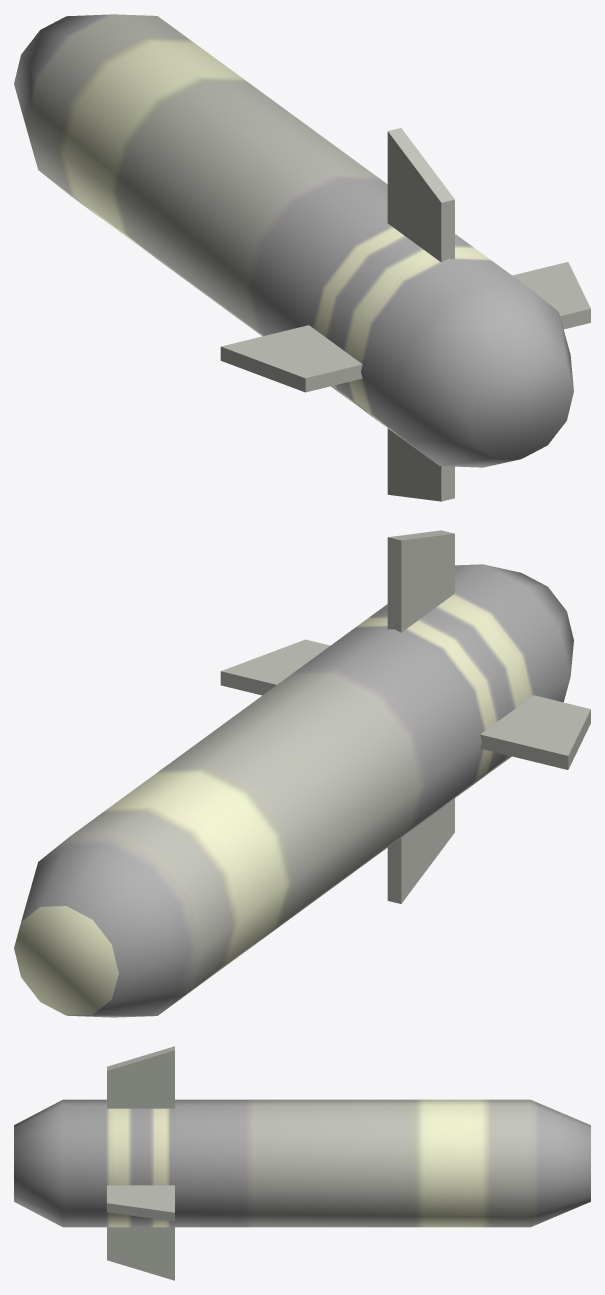
The model's file is MissileGhost.fbx.
3 views of the same model, one above another, from view 1: azimuth 30°, elevation 25°; view 2: azimuth 150°, elevation 25°; view 3: azimuth 270°, elevation 25° (orthographic). The views are drawn at different scales.
Parts seen in each view (by area): view 1: missile VFX; view 2: missile VFX; view 3: missile VFX.
Boxes of the visible parts, x1=… form: missile VFX: x1=14, y1=14, x2=590, y2=501; missile VFX: x1=14, y1=530, x2=590, y2=1017; missile VFX: x1=14, y1=1046, x2=590, y2=1280.
Size of the model in its own units: 0.2422 by 0.2422 by 0.5496.
Materials: 1 (1 with a texture image).
